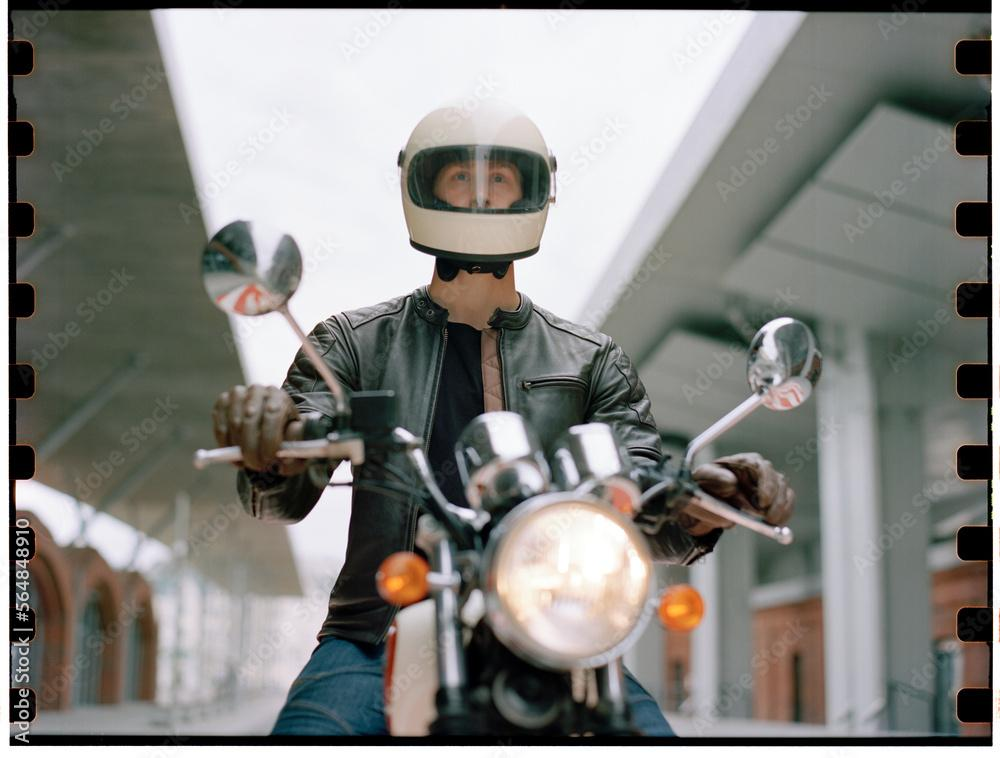helmet: (396, 97, 558, 283)
